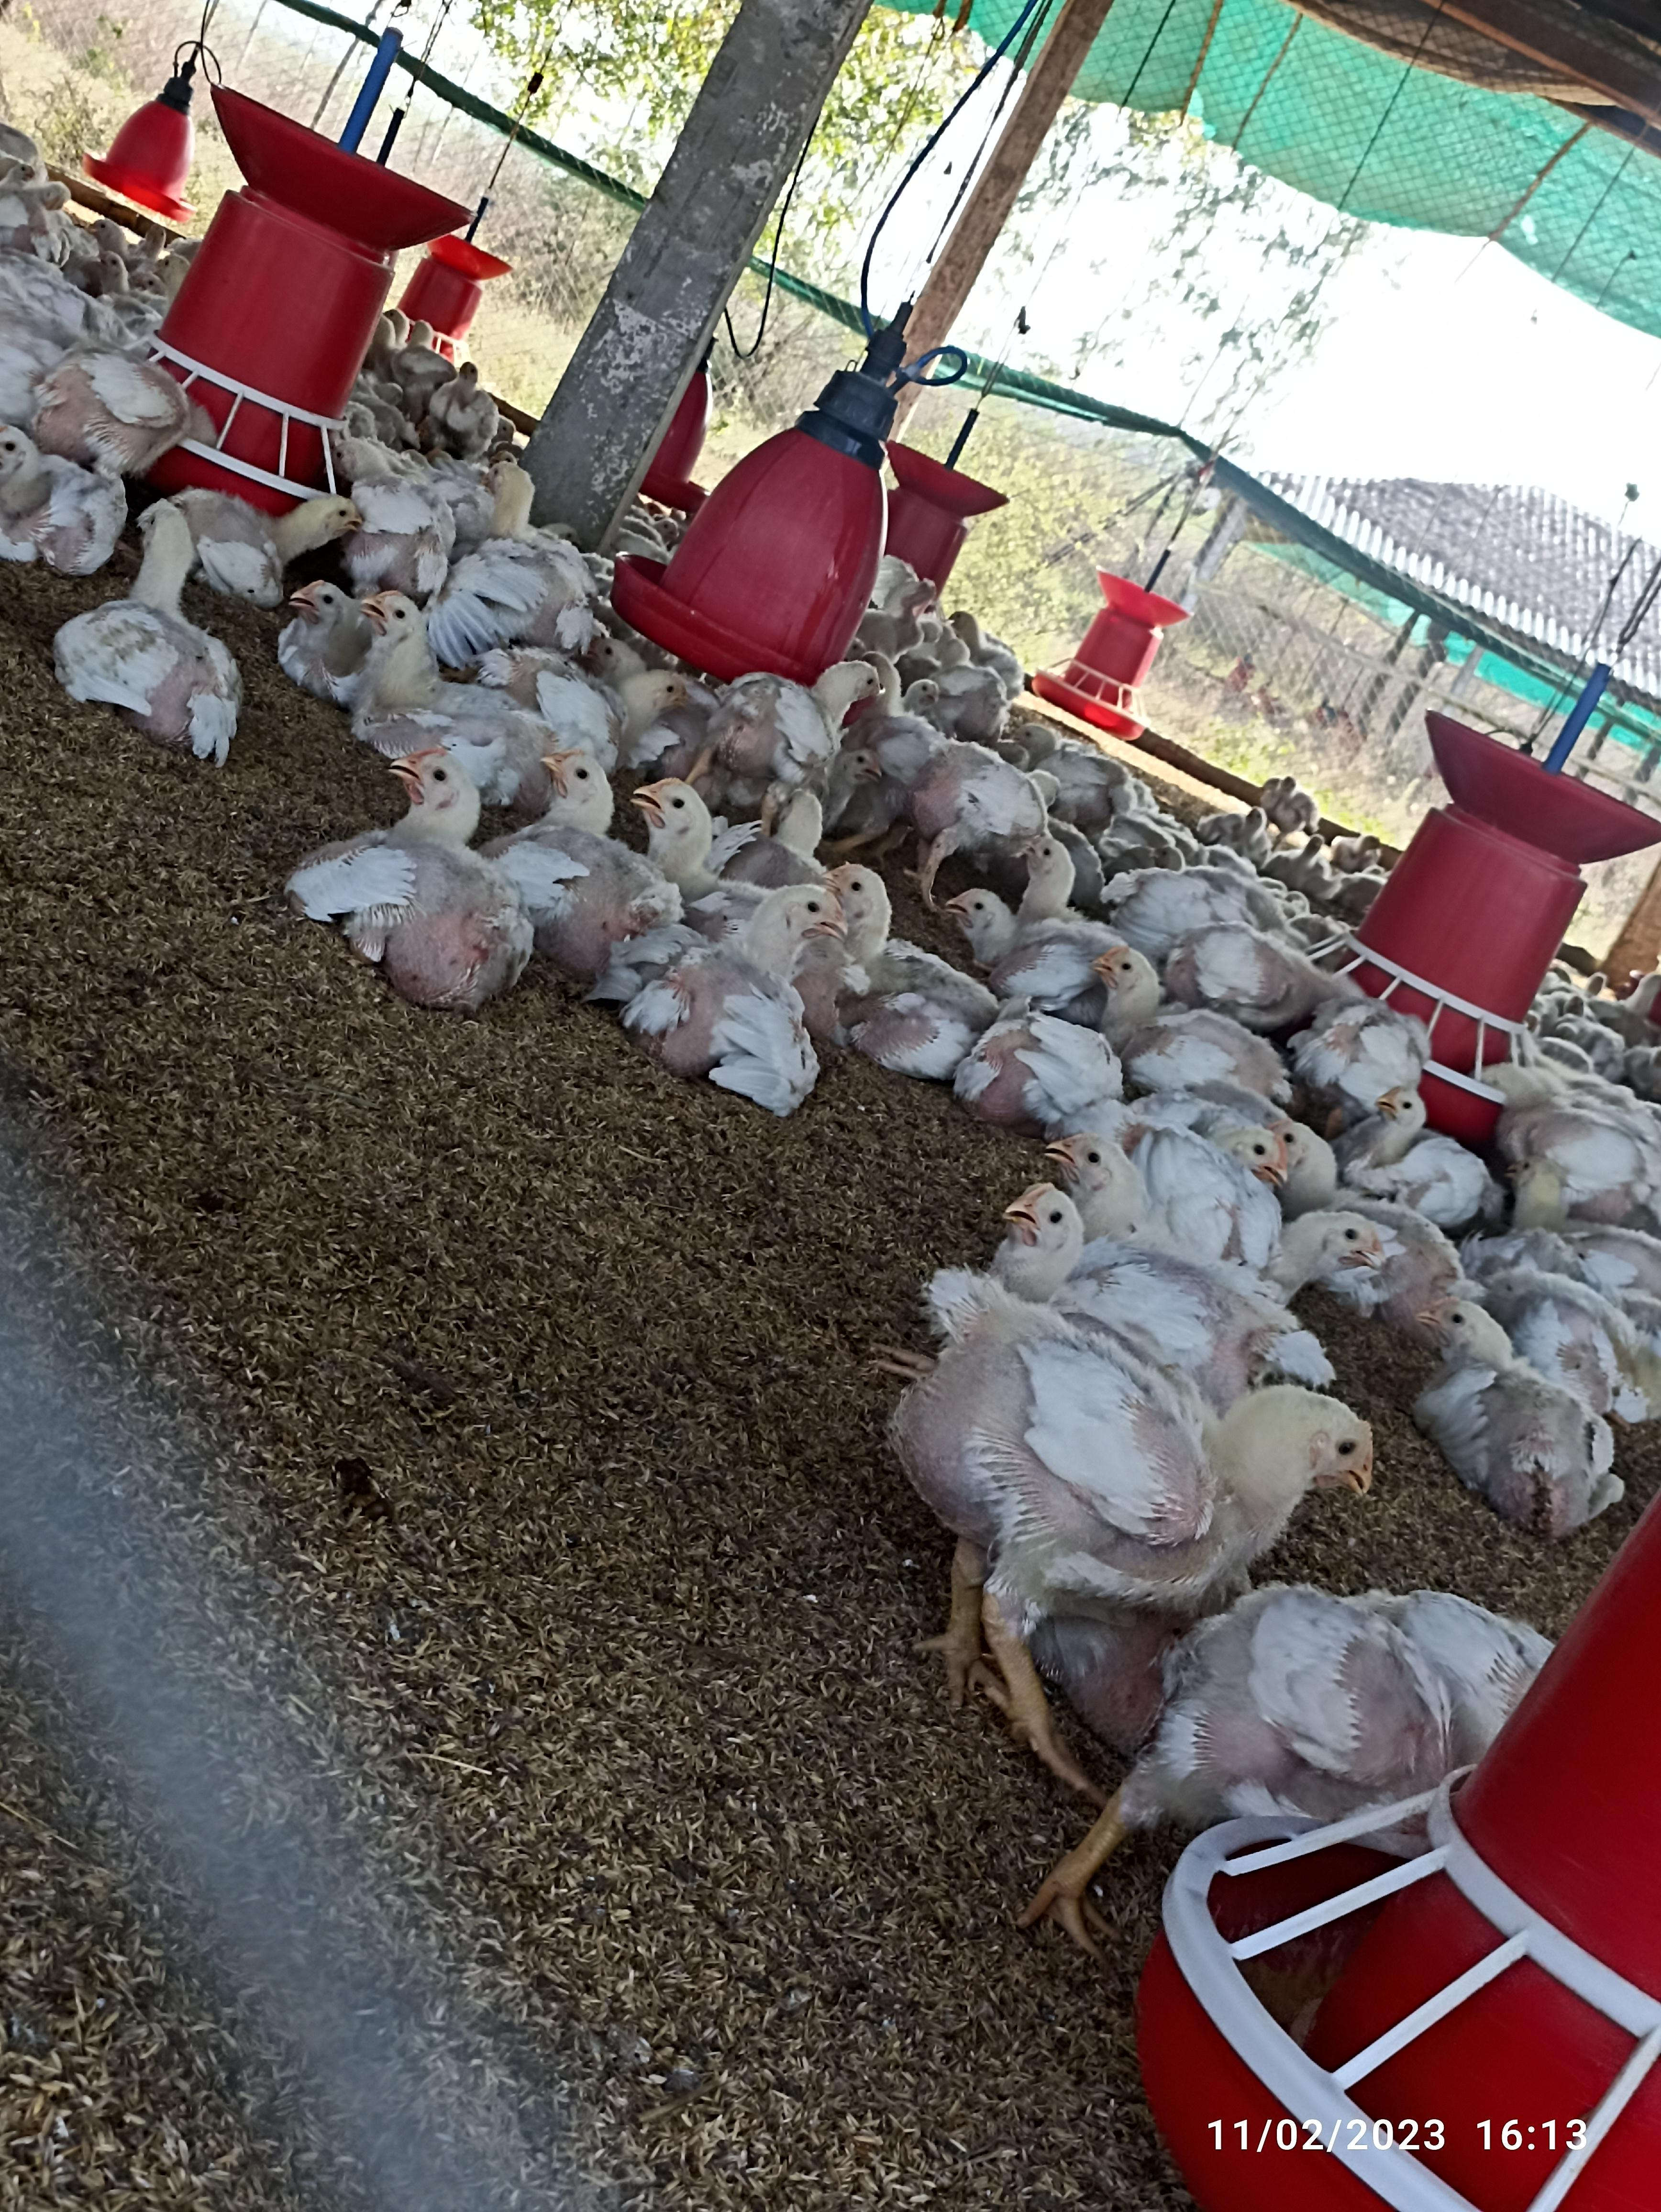Pollos: (897, 1275, 1371, 1596), (309, 748, 523, 1010), (65, 501, 258, 755), (1410, 1303, 1617, 1519), (635, 891, 851, 1092), (1056, 1101, 1298, 1263), (494, 748, 654, 982), (358, 590, 551, 748), (1099, 940, 1289, 1090), (700, 663, 885, 782), (1338, 1089, 1497, 1219), (0, 426, 131, 576), (942, 881, 1103, 1001)
